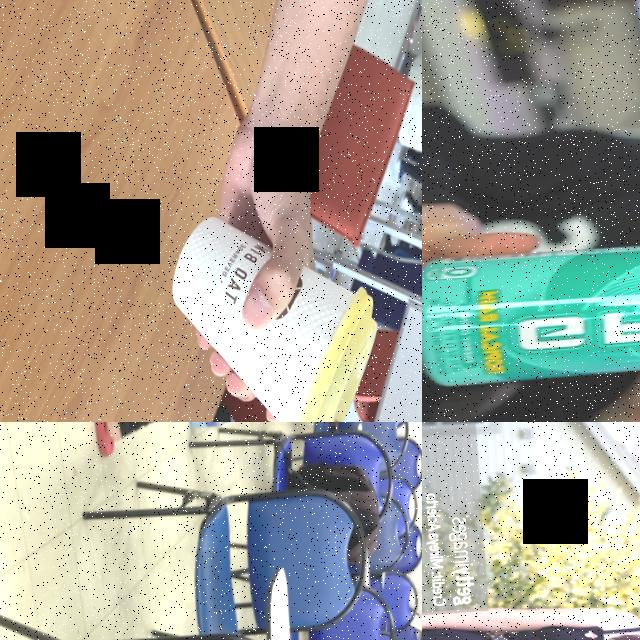can: (422, 223, 640, 393)
cup: (164, 203, 387, 422)
